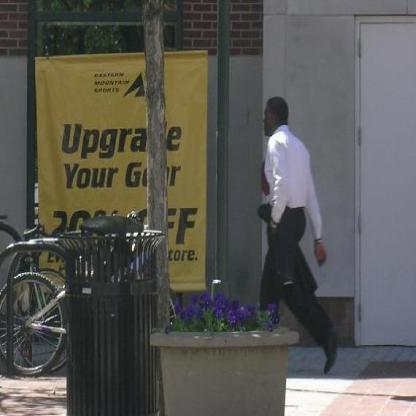person: (246, 96, 351, 374)
